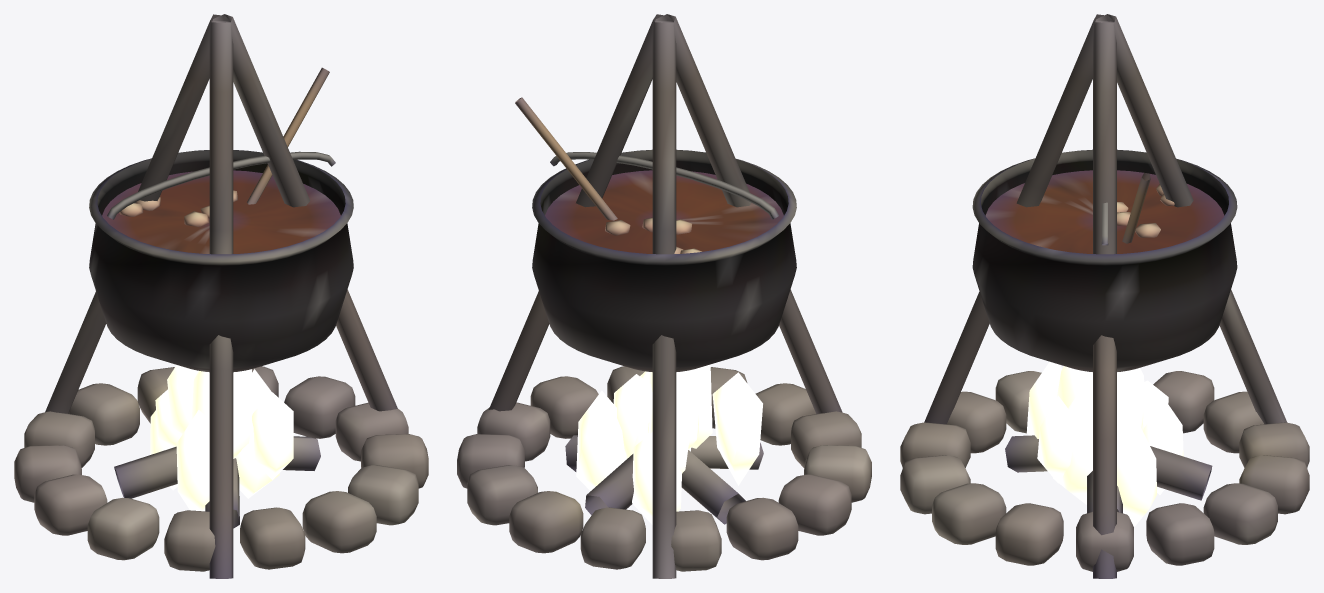
The model's file is kazan.glb.
The picture shows the model from 3 angles, left to right: view 1: azimuth 30°, elevation 25°; view 2: azimuth 150°, elevation 25°; view 3: azimuth 270°, elevation 25°; orthographic projection.
Parts seen in each view (by area): view 1: kazan_LOD0; view 2: kazan_LOD0; view 3: kazan_LOD0.
Boxes of the visible parts, box(x1,y1,x2,y2) form: kazan_LOD0: box(14, 14, 428, 578); kazan_LOD0: box(457, 14, 871, 578); kazan_LOD0: box(900, 14, 1309, 578).
Size of what is drawn, in the model's own units: 1.03 by 1.3 by 0.9883.
